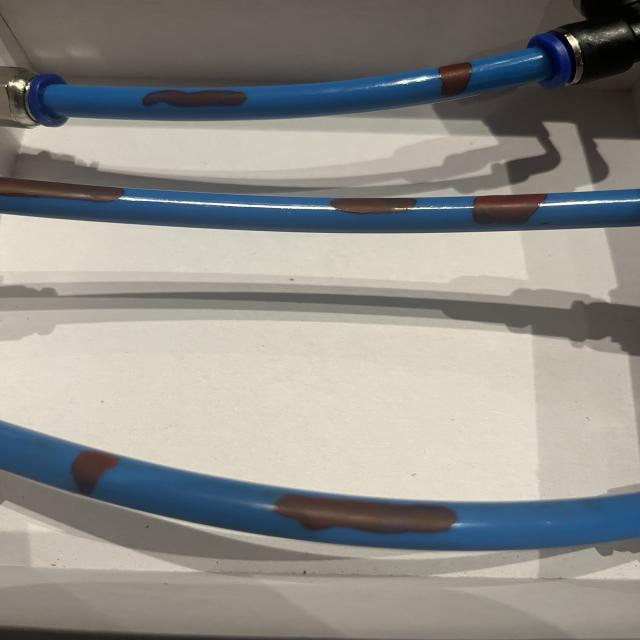hose_damage: (272, 488, 462, 538), (57, 444, 125, 503), (1, 174, 125, 206), (468, 191, 550, 228), (134, 88, 248, 110), (328, 194, 418, 215), (433, 61, 472, 98)
